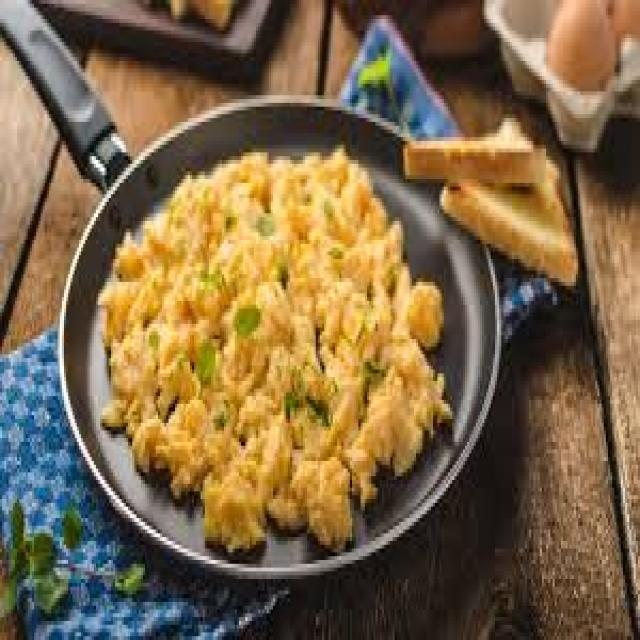telur_orak_arik: (96, 149, 436, 529)
